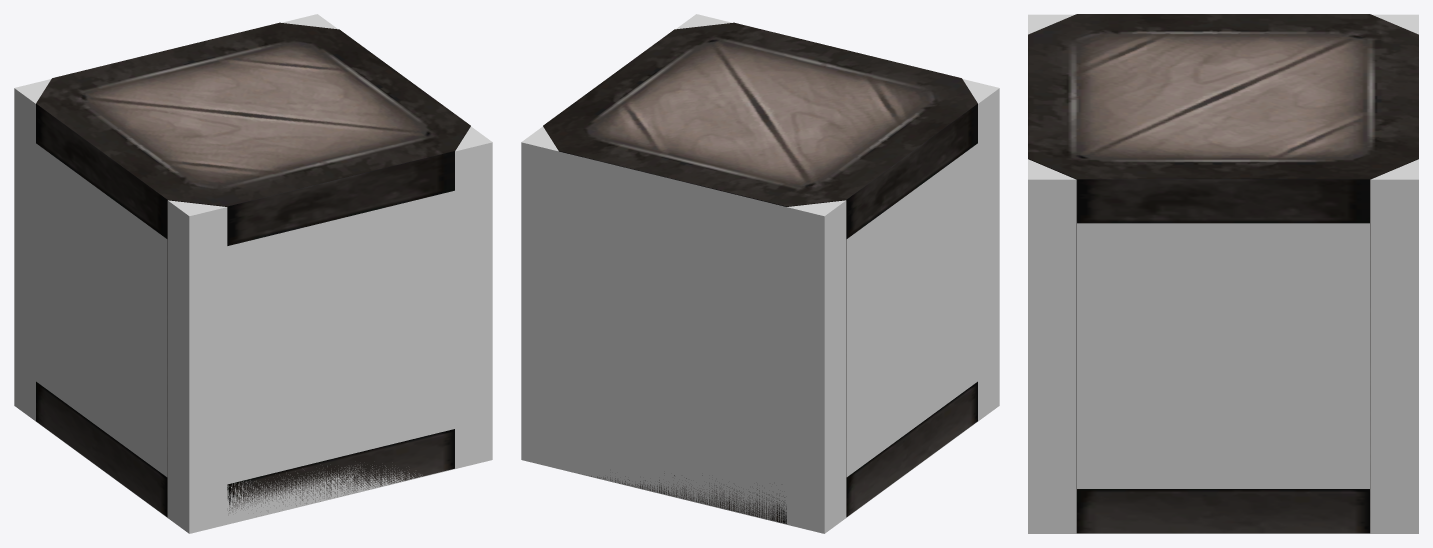
The model's file is sol-crate-ammo.glb.
The picture shows the model from 3 angles, left to right: view 1: azimuth 30°, elevation 25°; view 2: azimuth 150°, elevation 25°; view 3: azimuth 270°, elevation 25°; orthographic projection. The views are drawn at different scales.
Parts seen in each view (by area): view 1: Sol-Crate-Ammo.cmesh, Sol-Crate-Ammo; view 2: Sol-Crate-Ammo.cmesh, Sol-Crate-Ammo; view 3: Sol-Crate-Ammo.cmesh, Sol-Crate-Ammo.
Boxes of the visible parts, x1=… form: Sol-Crate-Ammo.cmesh: x1=14, y1=14, x2=492, y2=533; Sol-Crate-Ammo: x1=36, y1=22, x2=470, y2=517; Sol-Crate-Ammo.cmesh: x1=521, y1=14, x2=999, y2=533; Sol-Crate-Ammo: x1=543, y1=22, x2=977, y2=523; Sol-Crate-Ammo.cmesh: x1=1028, y1=14, x2=1418, y2=533; Sol-Crate-Ammo: x1=1028, y1=14, x2=1418, y2=533.
Size of the model in its own units: 1.77 by 1.77 by 1.77.
1 material, 1 textured.
